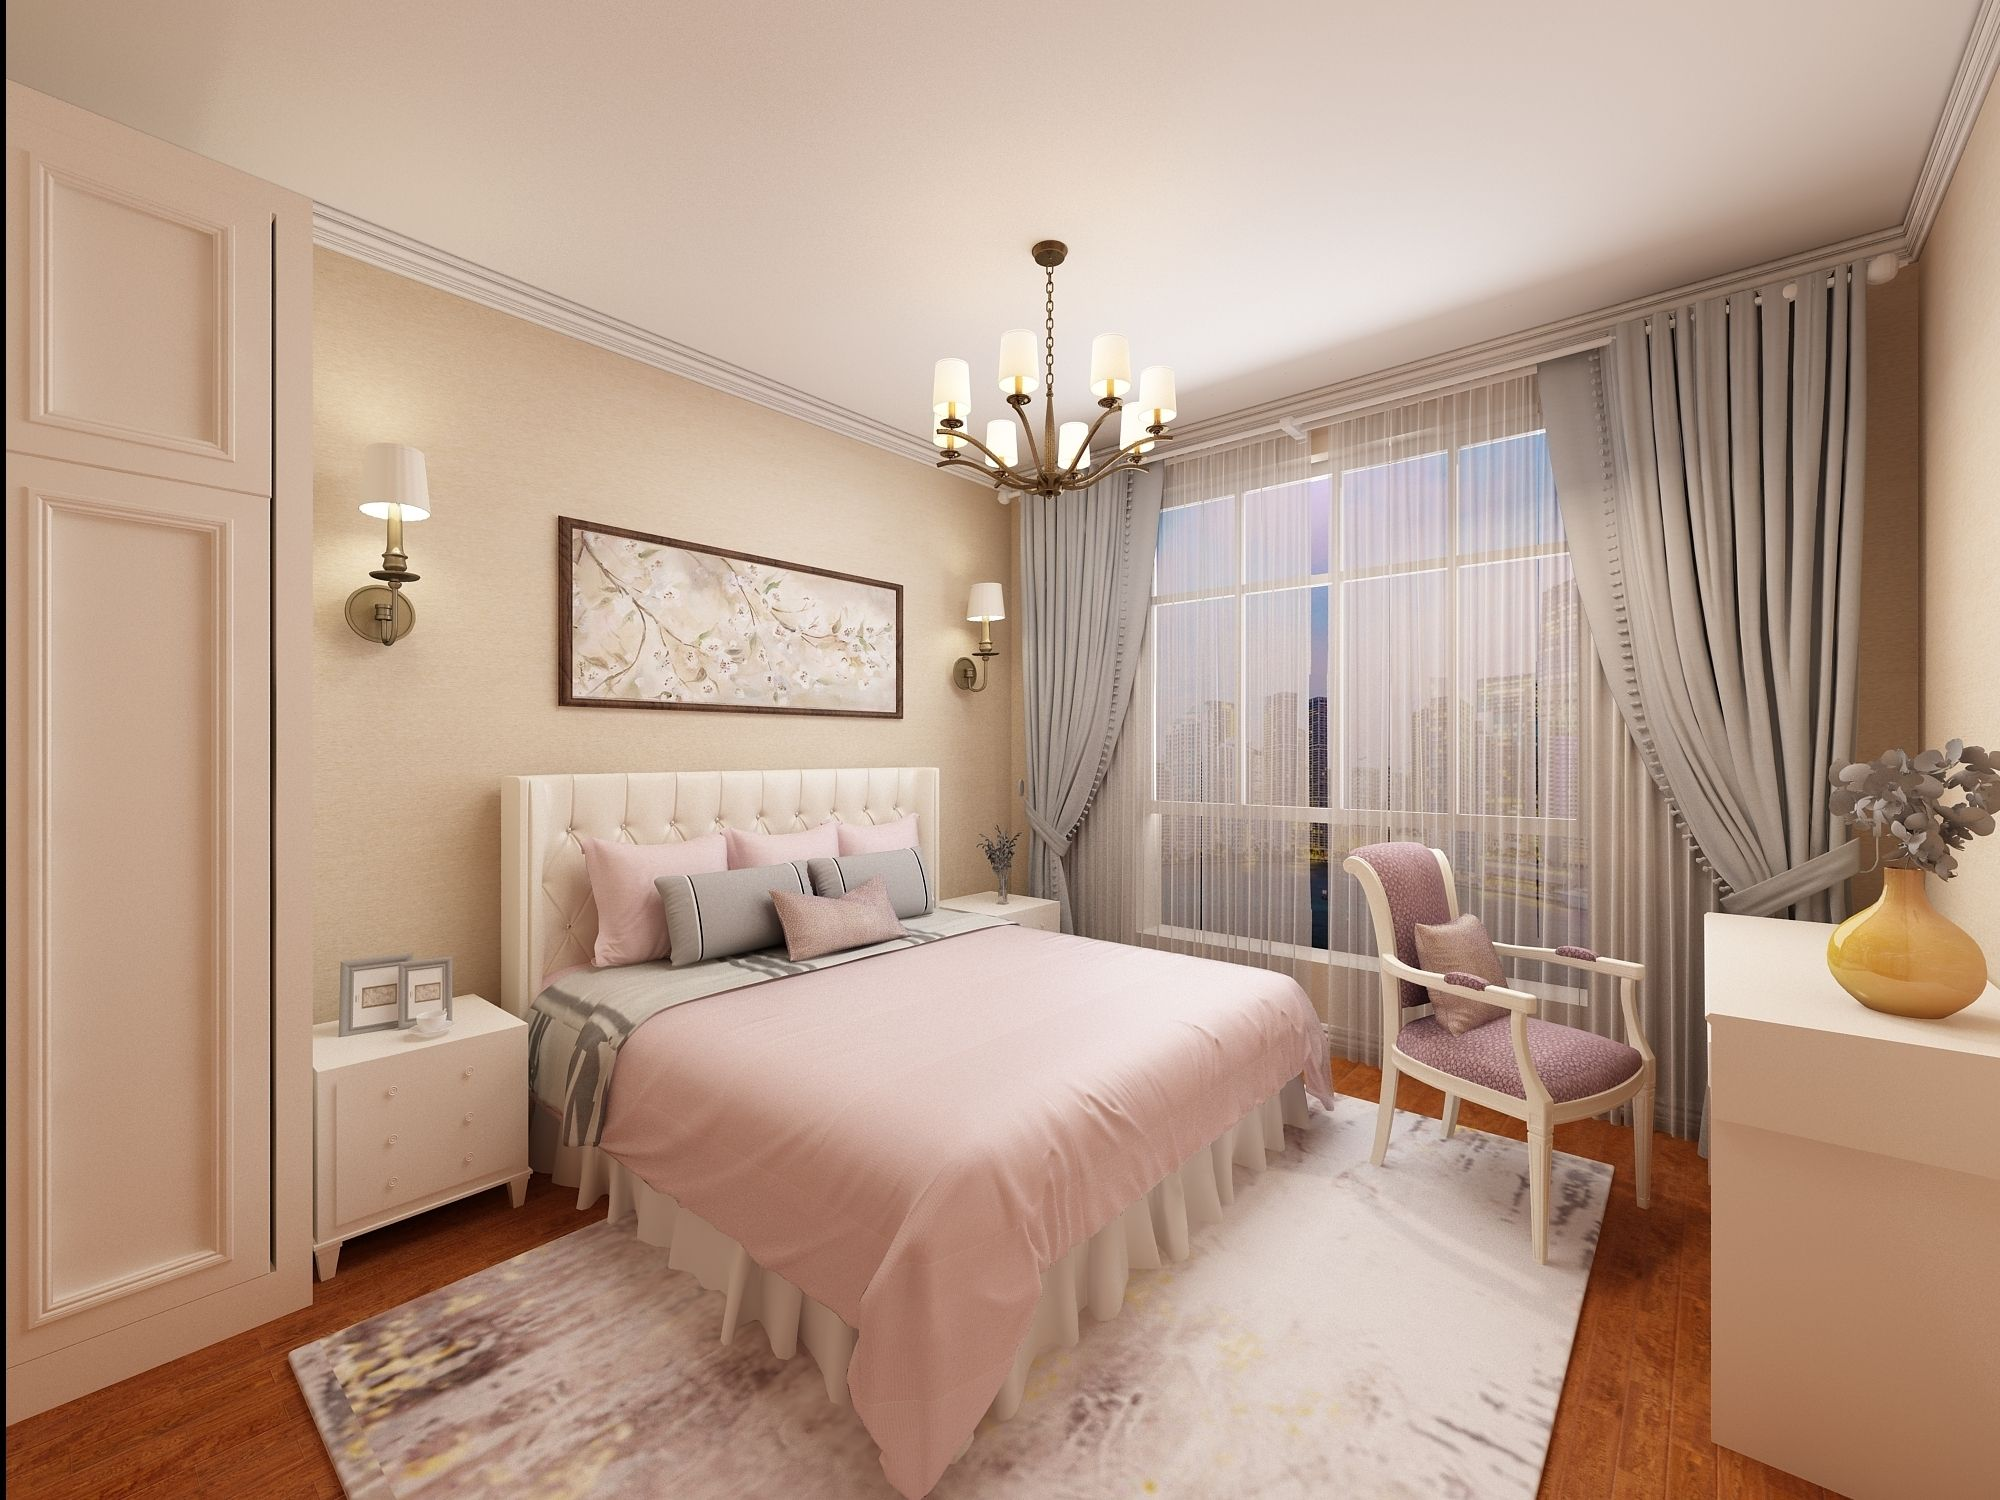床: (564, 897, 1306, 1390)
枕头: (550, 816, 945, 978)
灯: (924, 225, 1192, 511), (340, 459, 438, 652), (950, 572, 1011, 707)
